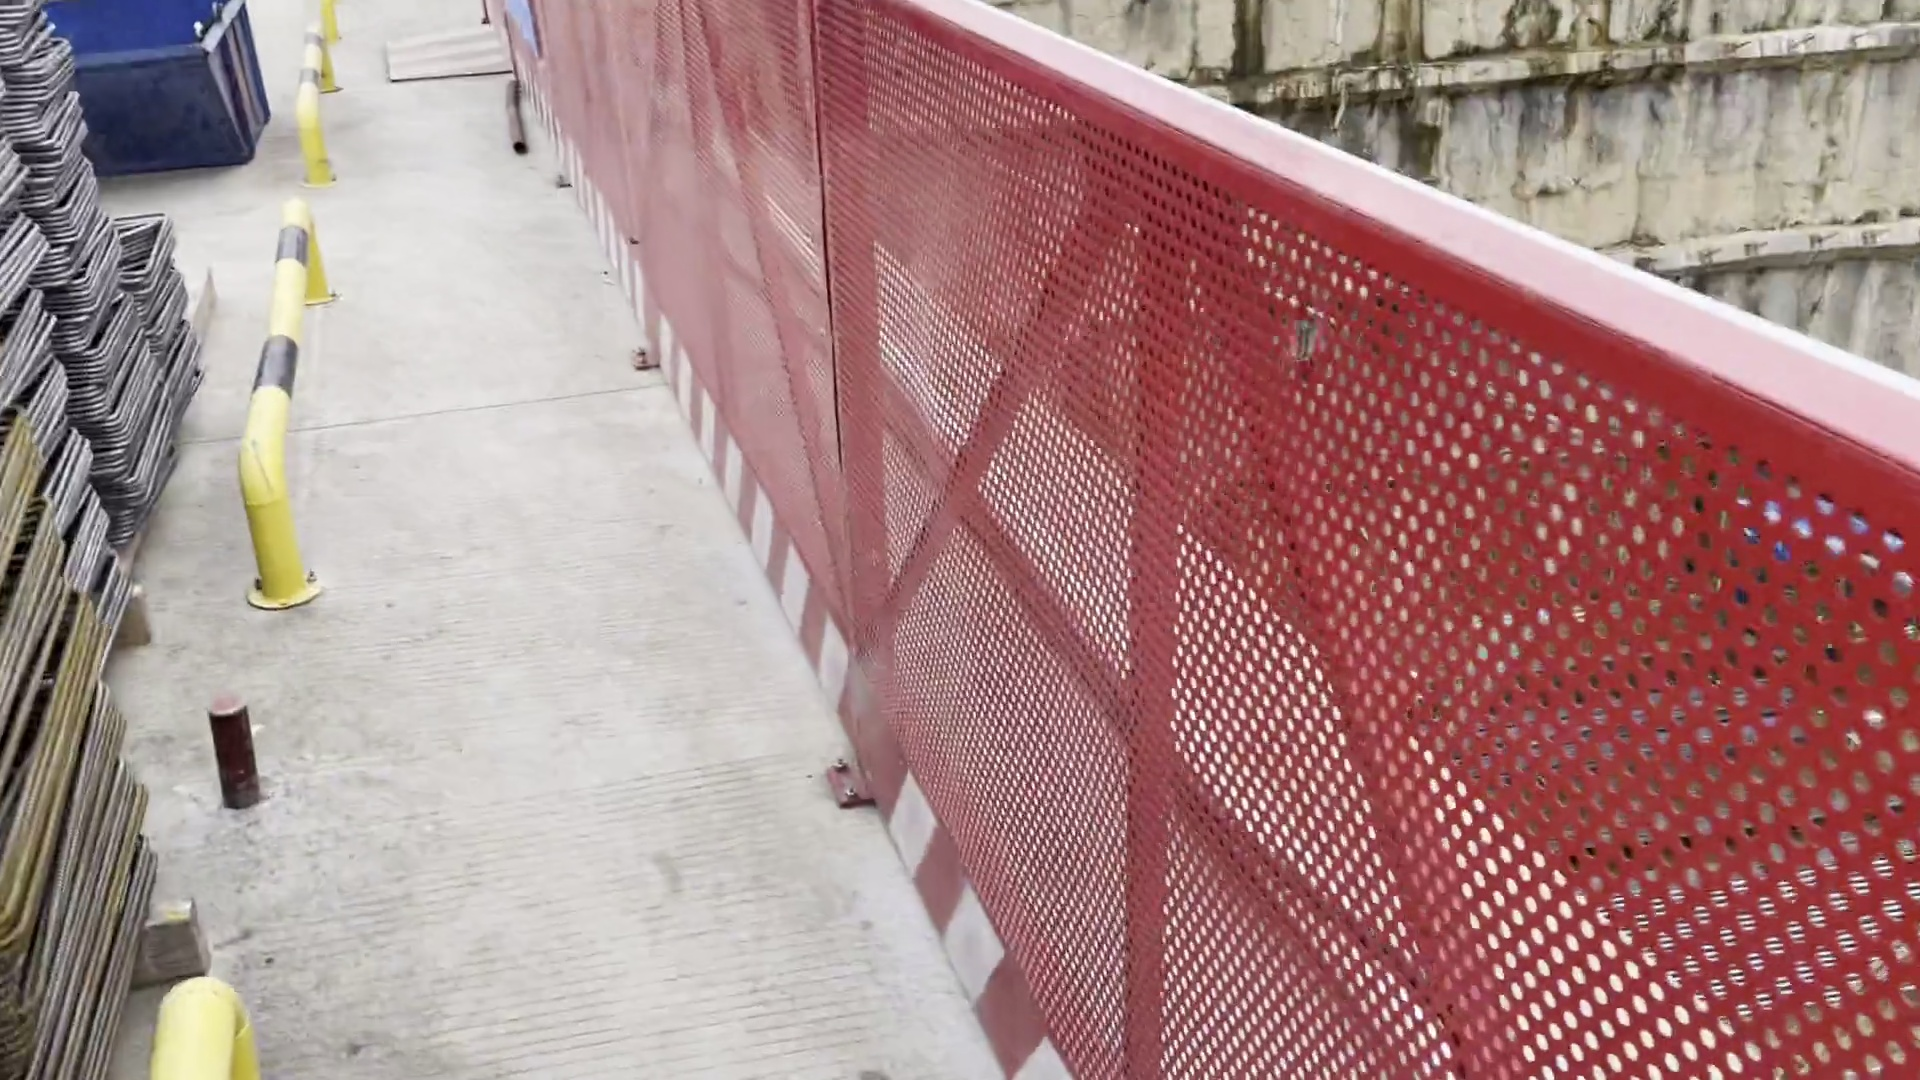fence: (487, 1, 1270, 1080), (1273, 115, 1920, 1080)
hopper: (58, 1, 287, 175)
slogan: (484, 1, 554, 73)
